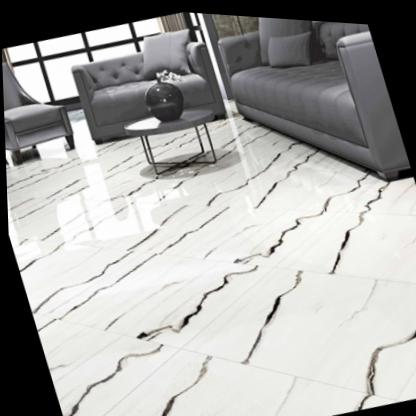Ceramic floor: (11, 131, 416, 416)
